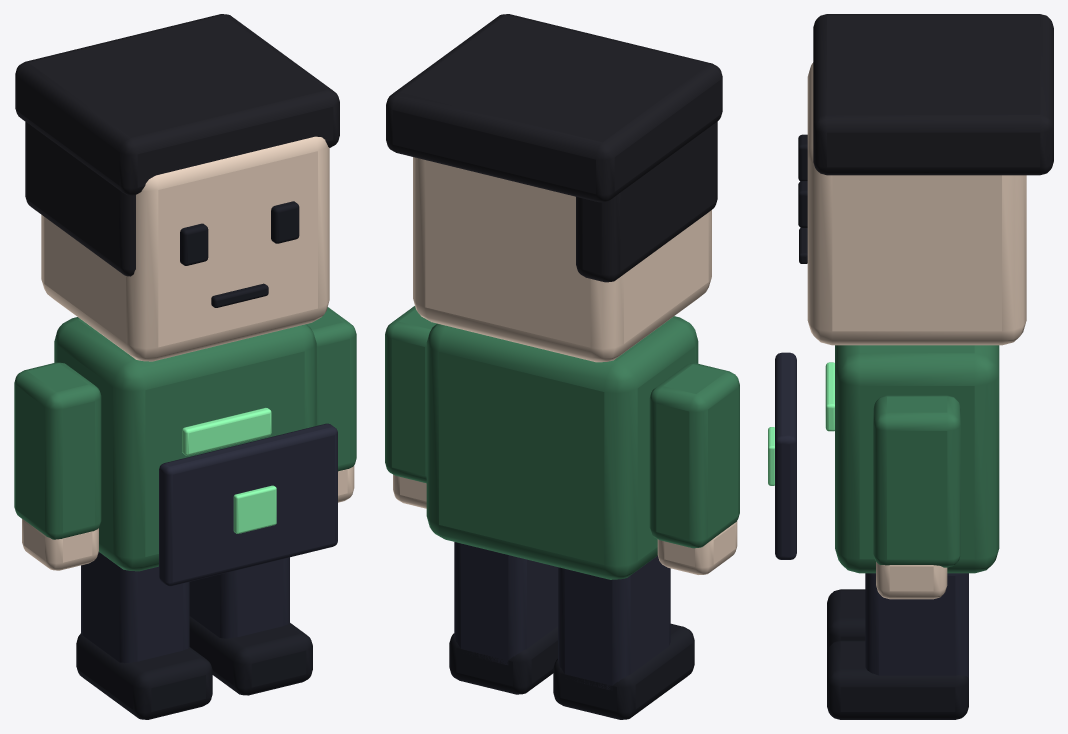
The model's file is josete.glb.
3 renders of one model, left to right at view 1: azimuth 30°, elevation 25°; view 2: azimuth 150°, elevation 25°; view 3: azimuth 270°, elevation 25°, orthographic. The views are drawn at different scales.
Visible parts, largest first — view 1: Face, Hair, Jacket, Laptop, Arm_L_sleeve, Leg_L_trouser, HairSide, Leg_L_shoe, Leg_R_shoe, Leg_R_trouser, Arm_R_sleeve, ChestBadge (+5 smaller); view 2: Jacket, Hair, Face, Arm_L_sleeve, HairSide, Leg_L_trouser, Leg_R_trouser, Arm_R_sleeve, Leg_L_shoe, Leg_R_shoe, Arm_L_hand, Arm_R_hand; view 3: Hair, Face, Jacket, Arm_R_sleeve, Leg_R_trouser, Leg_R_shoe, Laptop, Arm_R_hand, Leg_L_shoe, ChestBadge, Eye.001, Eye.
Boxes of the visible parts, x1,y1,x2,y2 form: Face: (41, 136, 329, 361); Hair: (15, 14, 339, 195); Jacket: (54, 317, 316, 571); Laptop: (159, 423, 337, 586); Arm_L_sleeve: (14, 362, 101, 539); Leg_L_trouser: (81, 552, 189, 663); HairSide: (25, 121, 135, 276); Leg_L_shoe: (76, 633, 212, 719); Leg_R_shoe: (189, 616, 312, 695); Leg_R_trouser: (189, 557, 289, 638); Arm_R_sleeve: (306, 307, 356, 471); ChestBadge: (182, 407, 271, 455); Jacket: (426, 316, 698, 579); Hair: (386, 14, 722, 202); Face: (413, 157, 711, 362); Arm_L_sleeve: (649, 363, 739, 548); HairSide: (576, 121, 717, 282); Leg_L_trouser: (558, 555, 670, 690); Leg_R_trouser: (454, 542, 557, 665); Arm_R_sleeve: (385, 306, 436, 483); Leg_L_shoe: (553, 623, 694, 719); Leg_R_shoe: (449, 626, 557, 694); Arm_L_hand: (657, 521, 737, 574); Arm_R_hand: (393, 474, 426, 508); Hair: (813, 14, 1053, 175); Face: (807, 62, 1026, 345); Jacket: (835, 345, 999, 573); Arm_R_sleeve: (873, 395, 960, 567); Leg_R_trouser: (865, 573, 968, 678); Leg_R_shoe: (827, 640, 968, 719); Laptop: (775, 352, 796, 559); Arm_R_hand: (876, 562, 947, 599); Leg_L_shoe: (827, 589, 865, 652); ChestBadge: (825, 362, 834, 431); Eye.001: (798, 181, 807, 227); Eye: (798, 134, 807, 181).
Size of the model in its own units: 0.68 by 1.24 by 0.5225.
